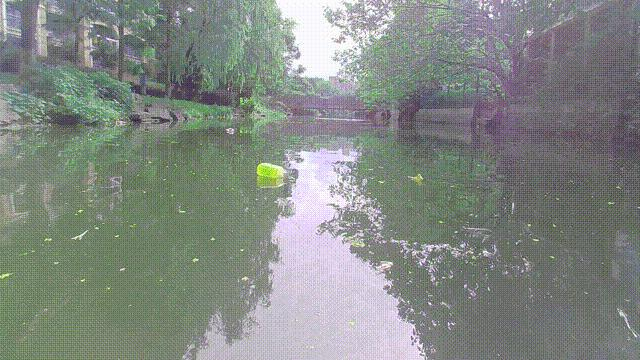Plastic: (256, 163, 289, 179), (115, 120, 128, 127), (226, 127, 236, 136), (169, 139, 180, 144)
